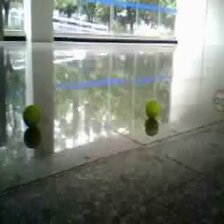tennis: (24, 104, 41, 126), (146, 101, 160, 117)
